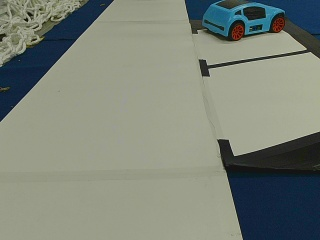car: (202, 2, 285, 39)
